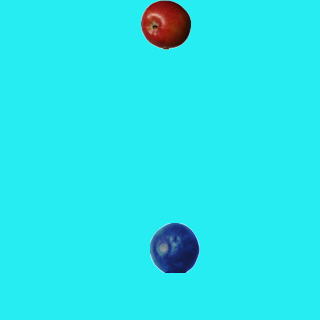Apple Braeburn: (140, 0, 190, 49)
Huckleberry: (149, 222, 199, 272)
